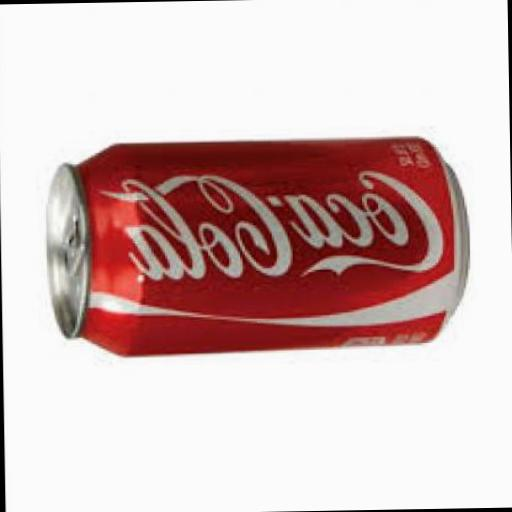metal: (44, 135, 464, 356)
